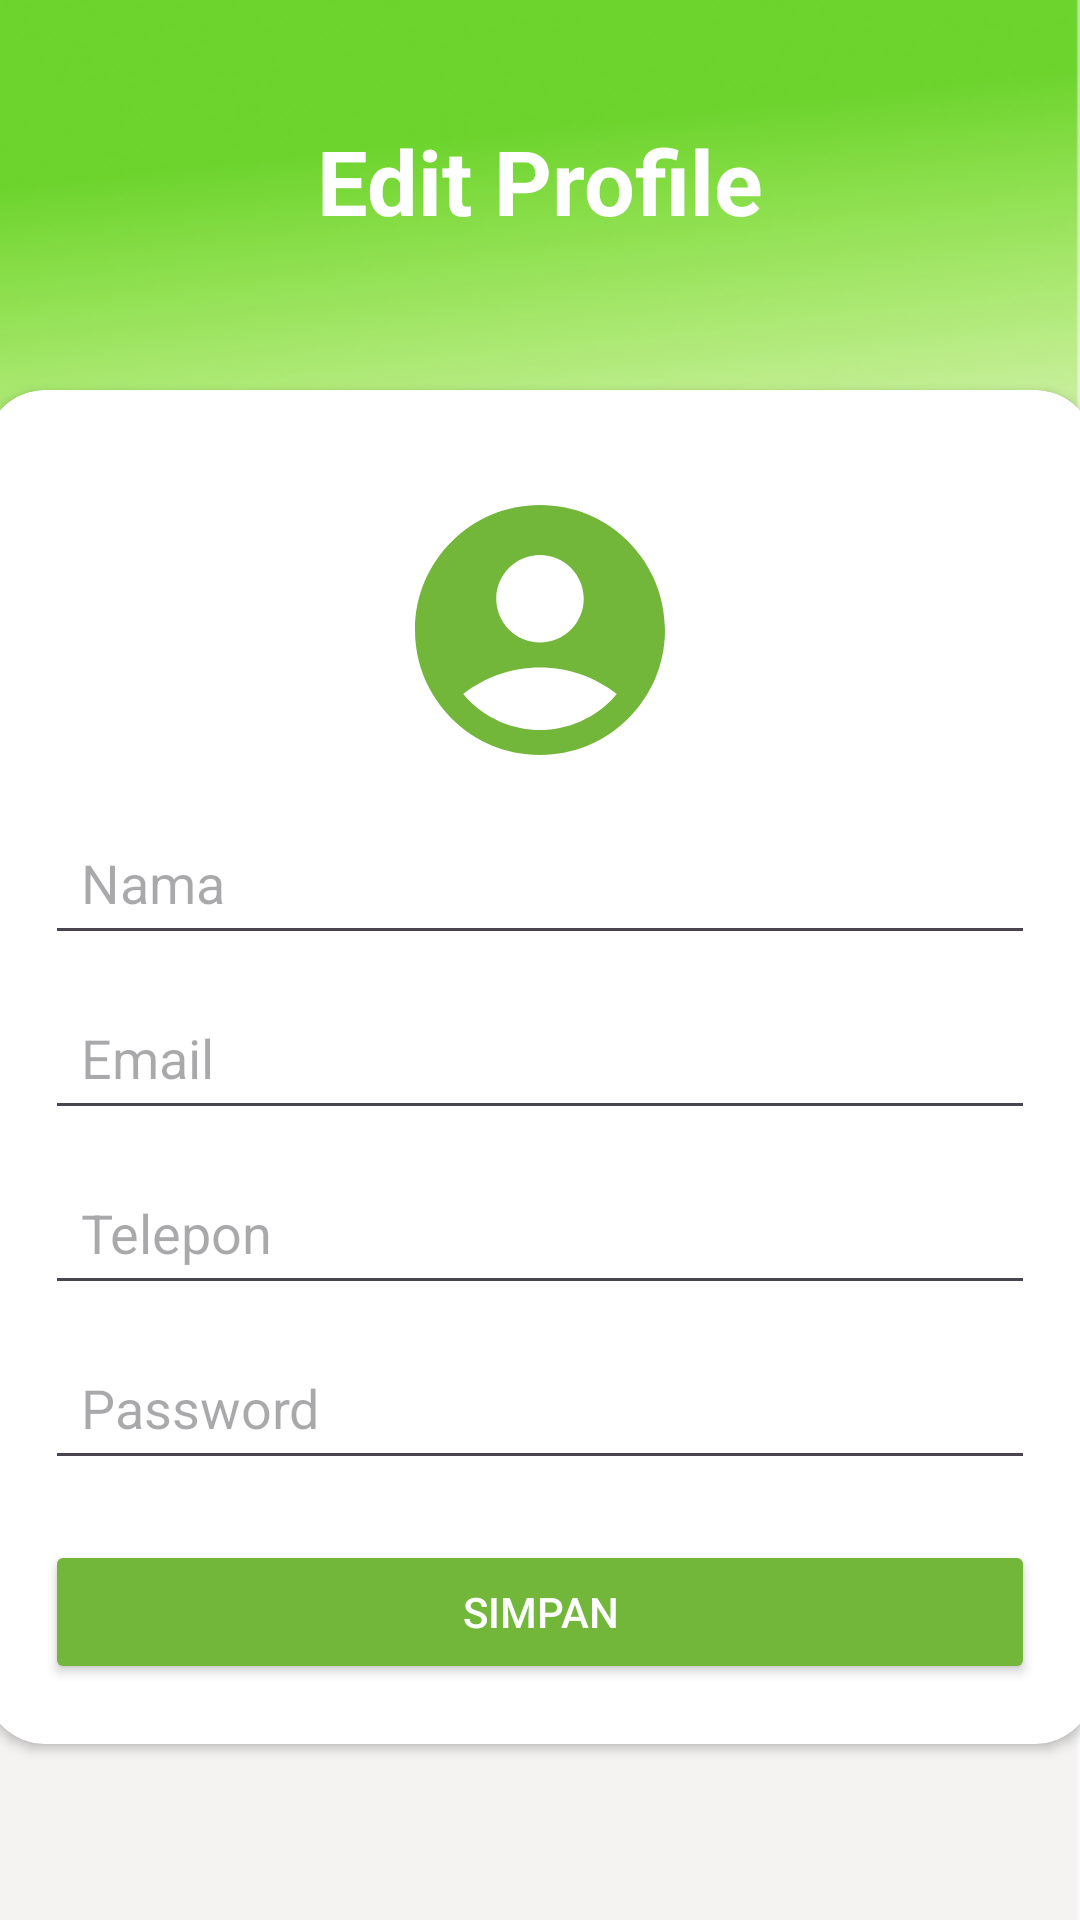

Screen size 1080*1920. Icon name, then its box in pixels as detection(x1, y1, x2, y2):
account circle: detection(415, 505, 665, 755)
